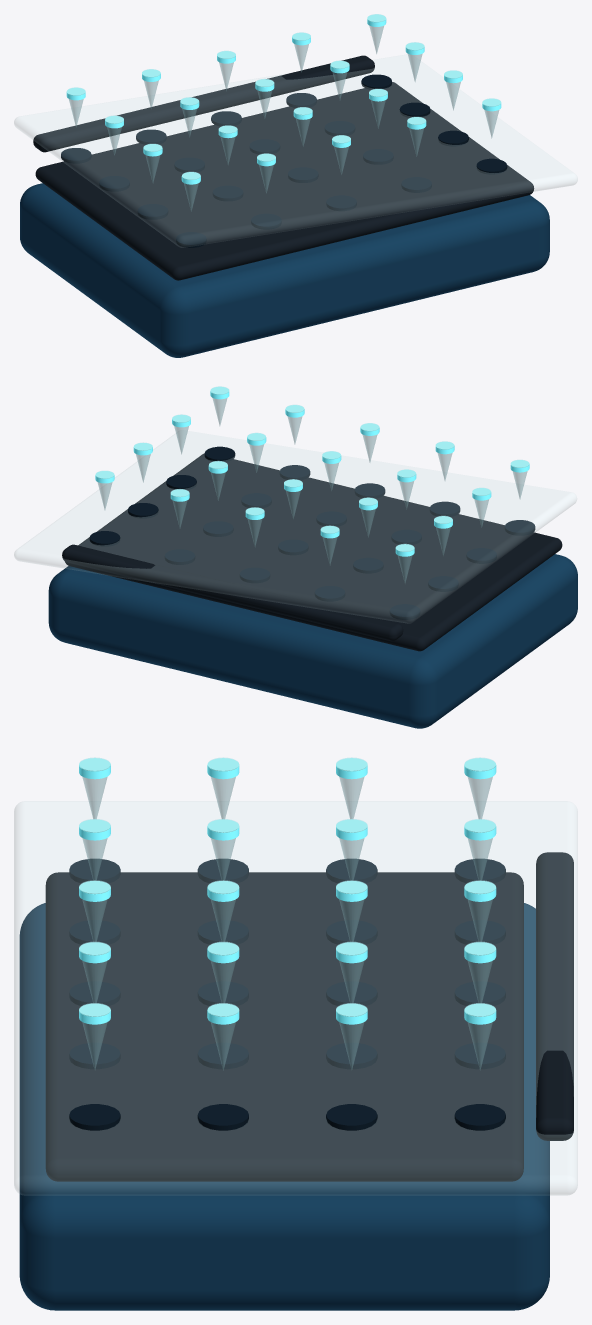
Rendered from tip-box.glb.
The picture shows the model from 3 angles, top to bottom: view 1: azimuth 30°, elevation 25°; view 2: azimuth 150°, elevation 25°; view 3: azimuth 270°, elevation 25°; orthographic projection. The views are drawn at different scales.
Parts seen in each view (by area): view 1: transparent_hinged_tip_box_lid, dark_tip_grid_tray, blue_sterile_tip_box_base, tip_box_back_hinge; view 2: transparent_hinged_tip_box_lid, blue_sterile_tip_box_base, dark_tip_grid_tray, tip_box_back_hinge; view 3: transparent_hinged_tip_box_lid, dark_tip_grid_tray, blue_sterile_tip_box_base, sterile_translucent_pipette_tip (×20), tip_box_back_hinge, tip_socket_1_4, tip_socket_0_4, tip_socket_3_4, tip_socket_3_3, tip_socket_2_4, tip_socket_1_3, tip_socket_2_3 (+13 smaller).
Boxes of the visible parts, x1=… form: transparent_hinged_tip_box_lid: x1=14, y1=55, x2=577, y2=247; dark_tip_grid_tray: x1=35, y1=82, x2=534, y2=280; blue_sterile_tip_box_base: x1=20, y1=183, x2=549, y2=357; tip_box_back_hinge: x1=33, y1=55, x2=374, y2=152; transparent_hinged_tip_box_lid: x1=14, y1=431, x2=576, y2=622; blue_sterile_tip_box_base: x1=48, y1=554, x2=577, y2=728; dark_tip_grid_tray: x1=64, y1=453, x2=562, y2=651; tip_box_back_hinge: x1=62, y1=544, x2=403, y2=641; transparent_hinged_tip_box_lid: x1=14, y1=801, x2=577, y2=1194; dark_tip_grid_tray: x1=45, y1=872, x2=523, y2=1181; blue_sterile_tip_box_base: x1=19, y1=903, x2=549, y2=1310; sterile_translucent_pipette_tip (×20): x1=79, y1=757, x2=495, y2=1070; tip_box_back_hinge: x1=536, y1=852, x2=573, y2=1140; tip_socket_1_4: x1=326, y1=1104, x2=377, y2=1130; tip_socket_0_4: x1=454, y1=1104, x2=505, y2=1130; tip_socket_3_4: x1=69, y1=1104, x2=120, y2=1130; tip_socket_3_3: x1=69, y1=1043, x2=120, y2=1069; tip_socket_2_4: x1=197, y1=1104, x2=248, y2=1130; tip_socket_1_3: x1=326, y1=1043, x2=377, y2=1069; tip_socket_2_3: x1=197, y1=1043, x2=248, y2=1069.
Size of the model in its own units: 7.06 by 2.74 by 5.05.
